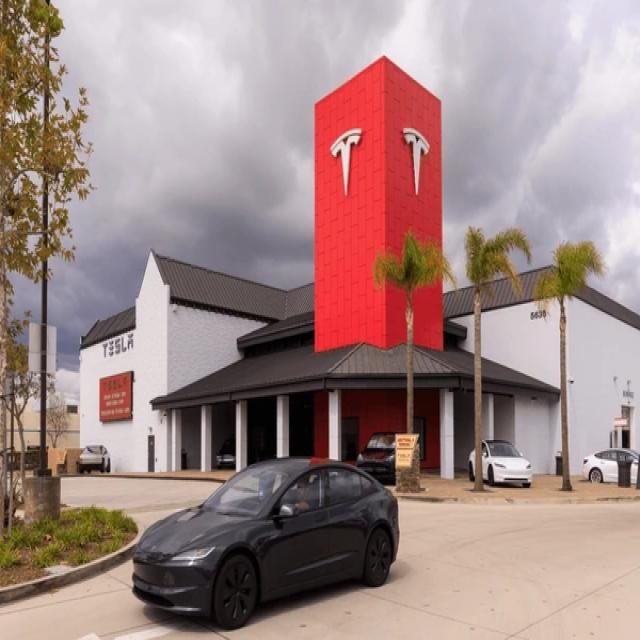tesla: (326, 124, 366, 199), (401, 122, 432, 201)
